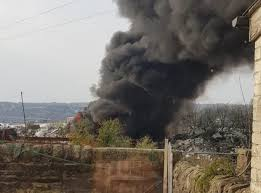smoke: (130, 1, 198, 95)
